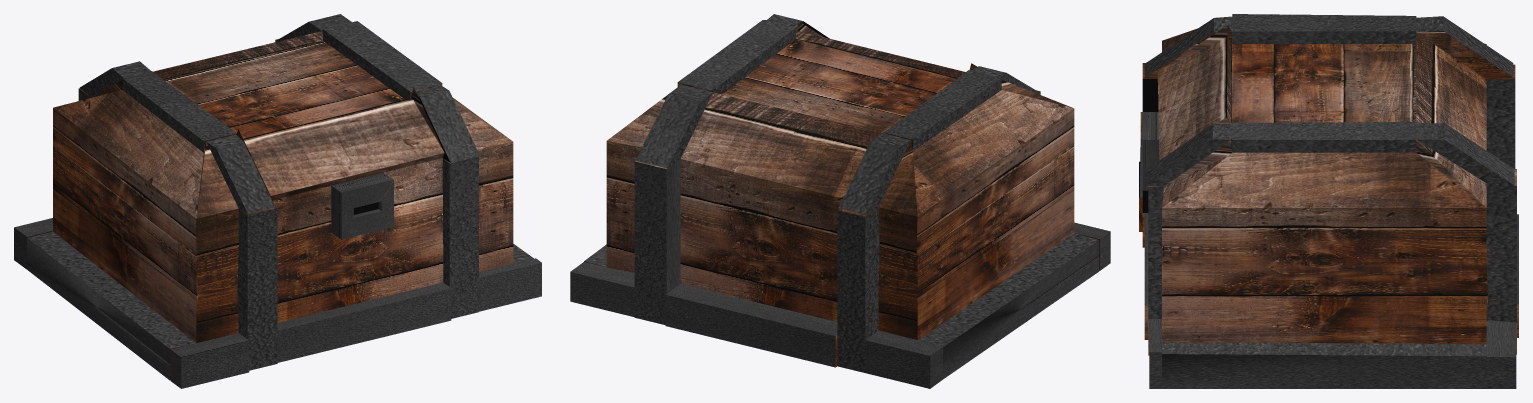
File: TreasureChest.FBX
3 renders of one model, left to right at view 1: azimuth 30°, elevation 25°; view 2: azimuth 150°, elevation 25°; view 3: azimuth 270°, elevation 25°, orthographic. The views are drawn at different scales.
Visible parts, largest first — view 1: Chest; view 2: Chest; view 3: Chest.
Part boxes in pixels (box(x1,y1,x2,y2)): Chest: box(14, 14, 541, 388); Chest: box(570, 14, 1110, 388); Chest: box(1139, 14, 1518, 388).
Size of the model in its own units: 85.16 by 45.83 by 70.85.
